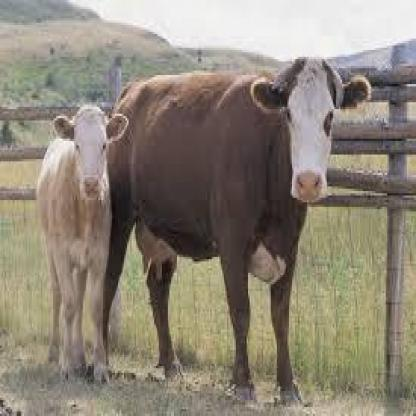cow: (110, 54, 370, 414), (35, 105, 130, 384)
